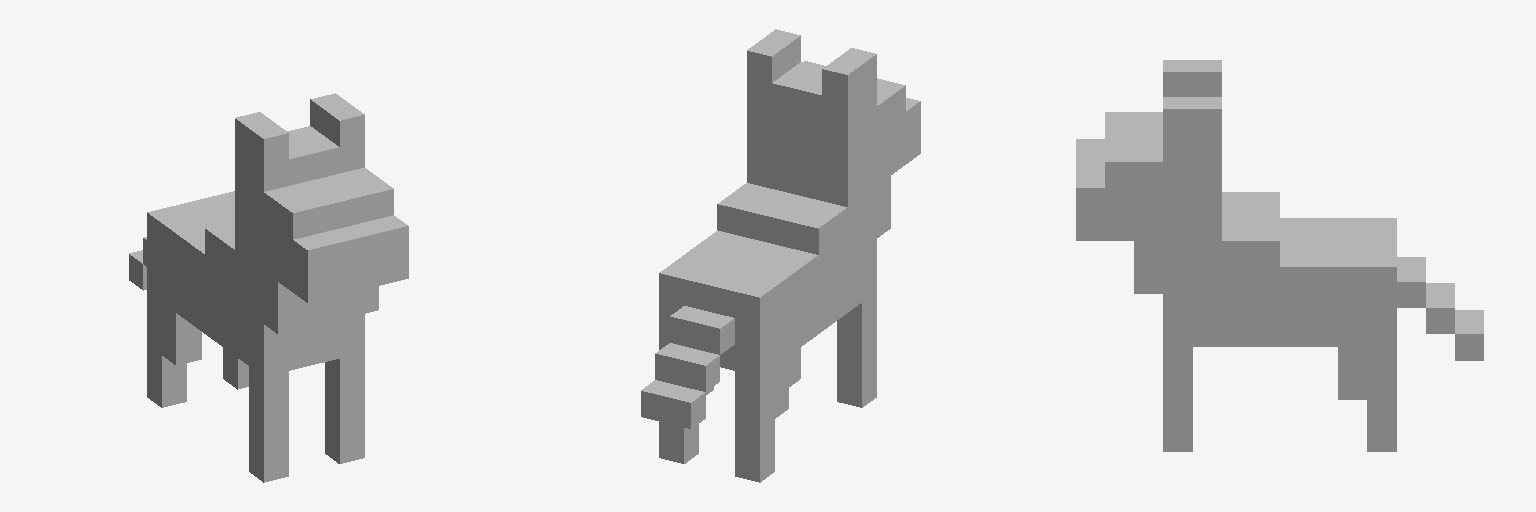
The model's file is wolf.obj.
3 views of the same model, side by side, from view 1: azimuth 30°, elevation 25°; view 2: azimuth 150°, elevation 25°; view 3: azimuth 270°, elevation 25° (orthographic).
Parts seen in each view (by area): view 1: object 1; view 2: object 1; view 3: object 1.
Part boxes in pixels (x1,y1,x2,y2): object 1: (129, 93, 408, 482); object 1: (641, 29, 920, 482); object 1: (1076, 60, 1483, 451).
Size of the model in its own units: 0.4 by 1.3 by 1.4.